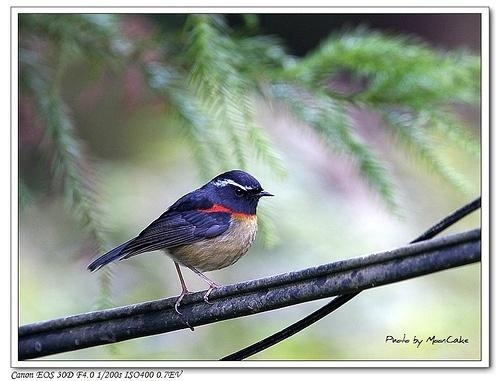bird: (88, 169, 275, 314)
